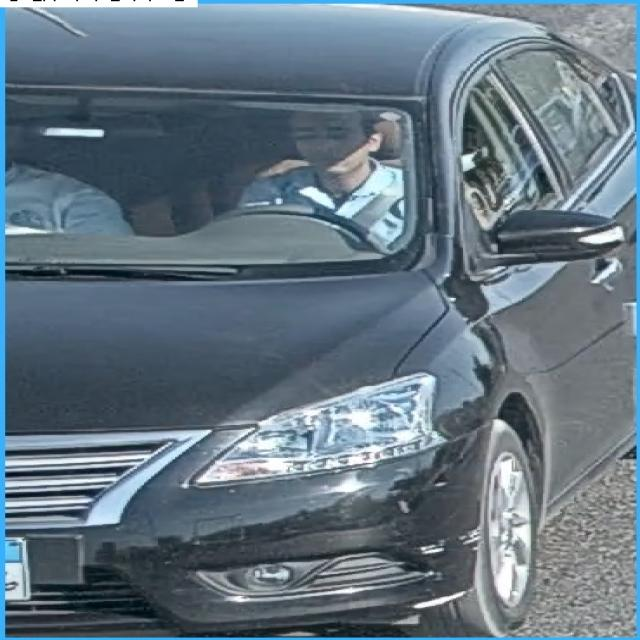windshield: (4, 88, 422, 263)
